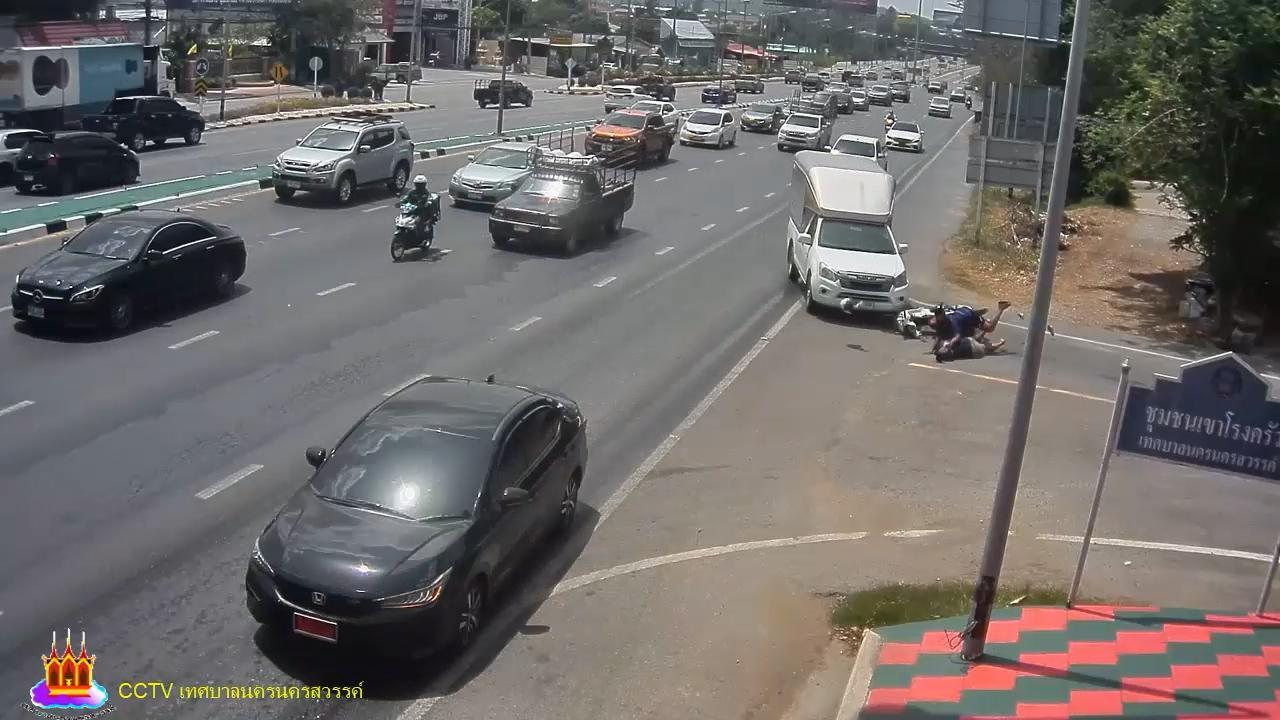accident: (931, 336, 1007, 361)
